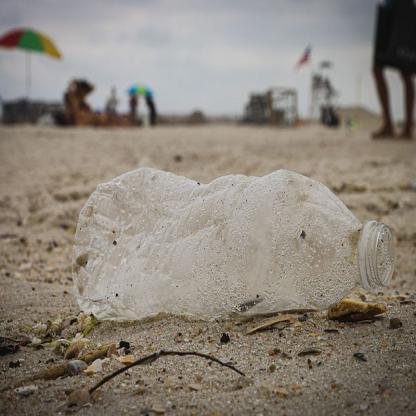bottle: (55, 137, 401, 356)
